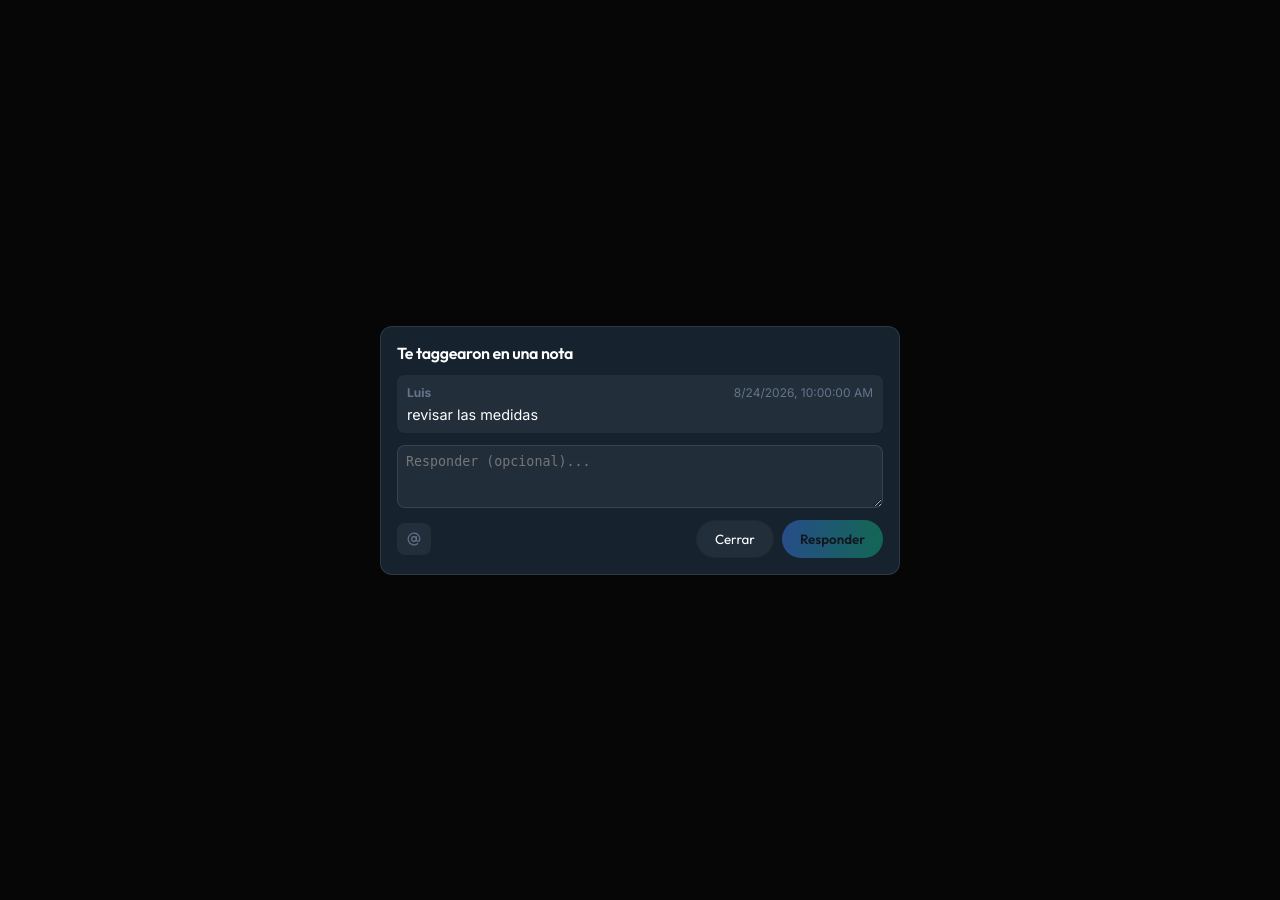
Test case: NoteReplyModal › si responder falla, NO cierra y avisa
This screenshot has width=1280, height=900.
In the text box: [640, 476] box [397,444,883,508], type "ok"
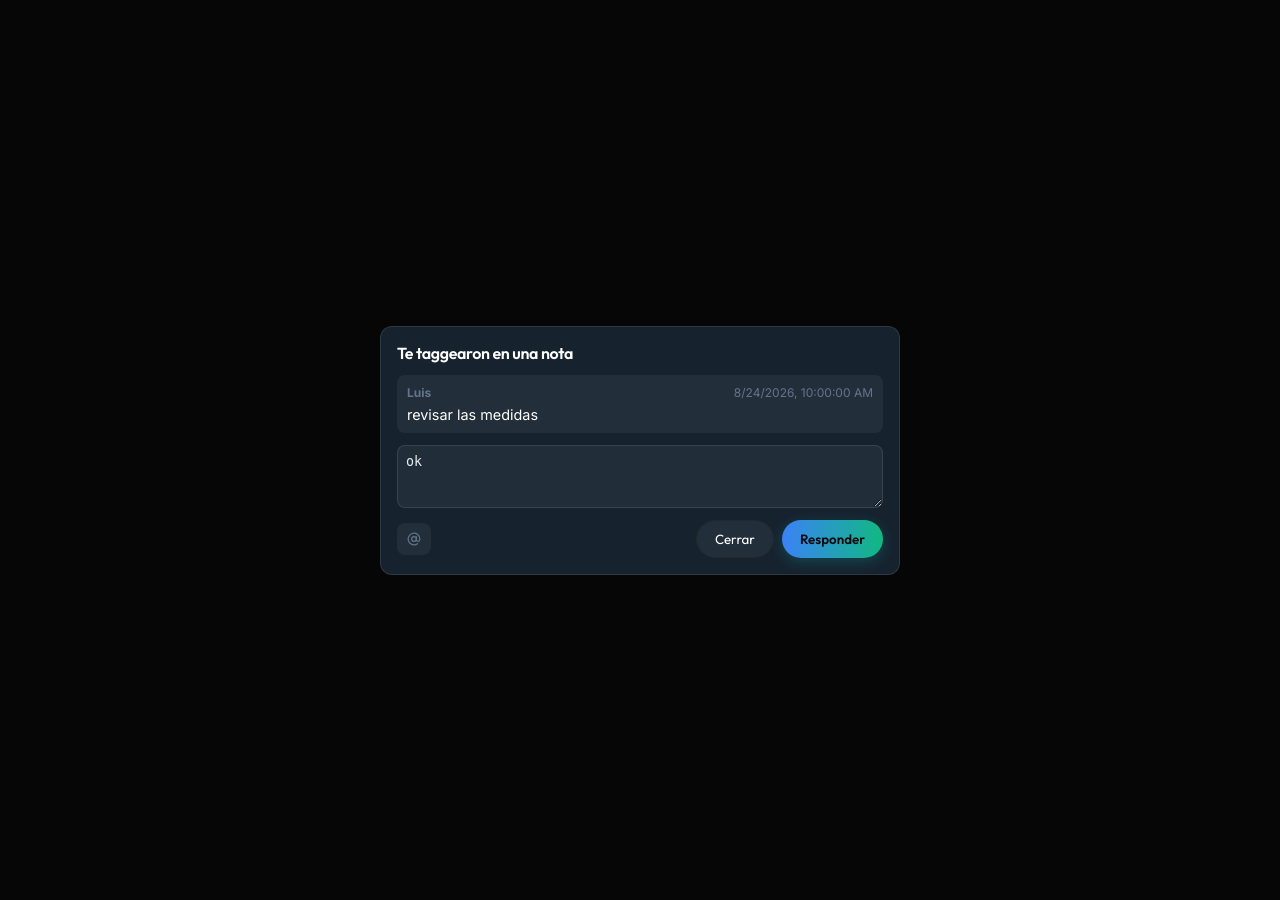
Click the button "Responder": [832, 538] box [782,520,883,558]
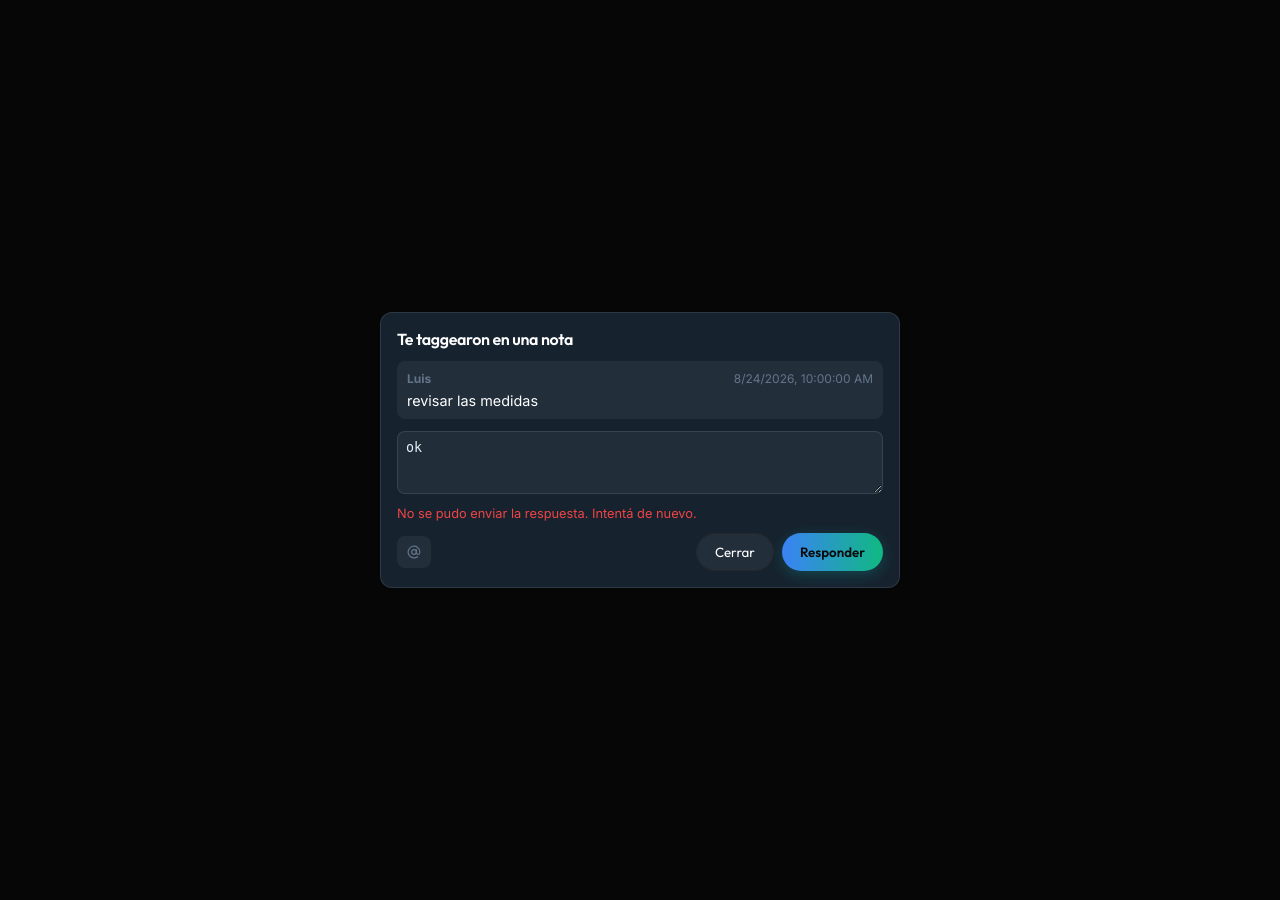
Expected: the message "No se pudo enviar la respuesta. Intentá de nuevo." is shown, [397,506,697,521]
